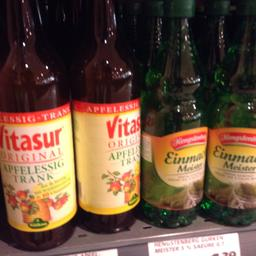vinegar: (1, 0, 79, 250), (68, 0, 142, 235), (137, 0, 207, 225), (204, 0, 254, 229)
